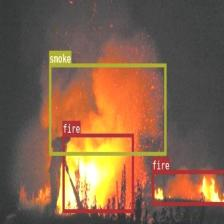fire: (62, 133, 134, 212), (151, 169, 224, 204)
smoke: (49, 63, 166, 155)
